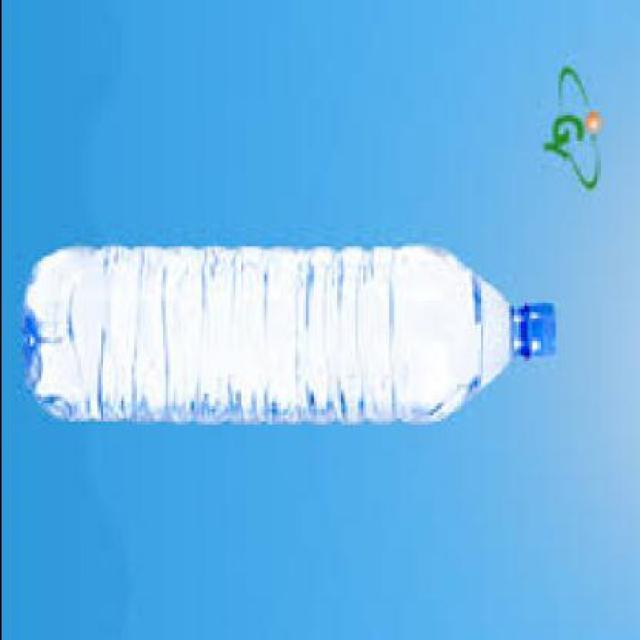PLASTIC: (24, 240, 559, 418), (513, 303, 559, 355)
